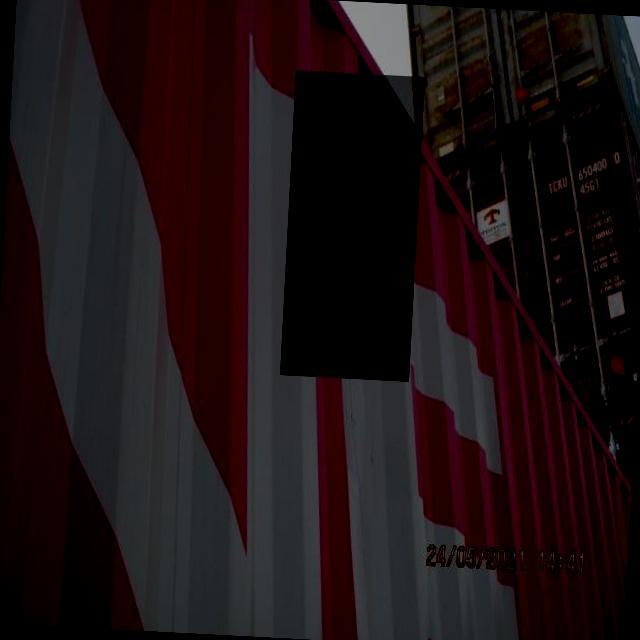Minor-Dent: (280, 71, 425, 382)
